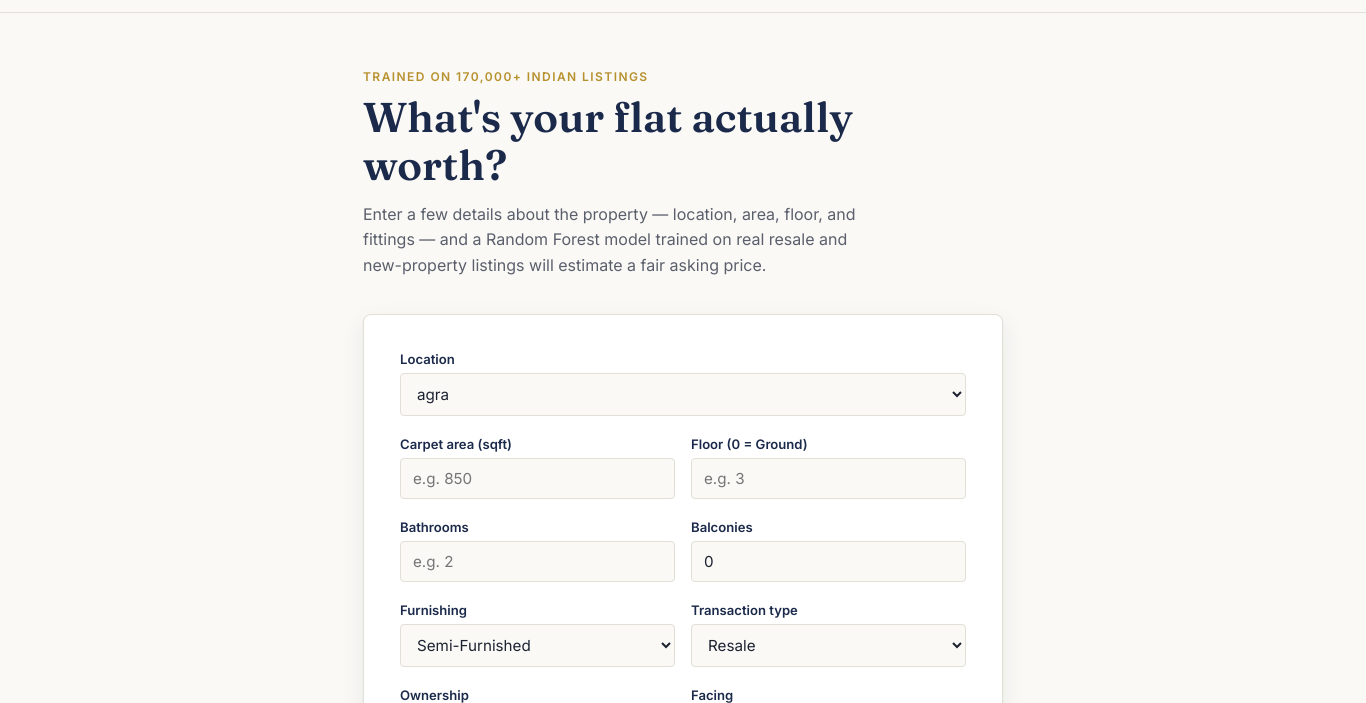
Scenario: End-to-end user flow: fill form -> submit -> see prediction › lets a user fill in property details, submit, and see a real predicted price
Check: the heading "What's your flat actually worth?" is shown, box [363,91,853,191]
Note: Fill in the required numeric fields (selects already have sensible defaults)
Type "850" into the number field labelled "Carpet area (sqft)" at (538, 479), box [400,458,675,499]
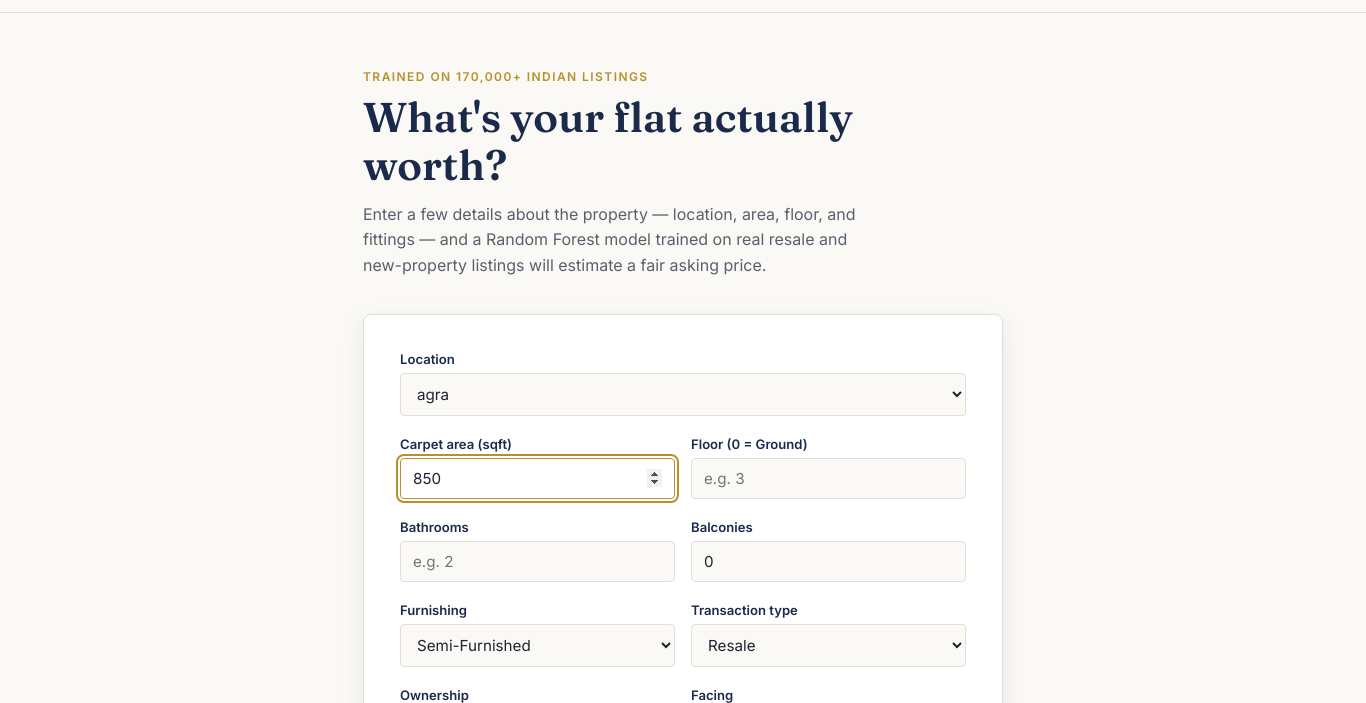
Type "3" into the number field labelled "Floor (0 = Ground)" at (828, 479), box [691,458,966,499]
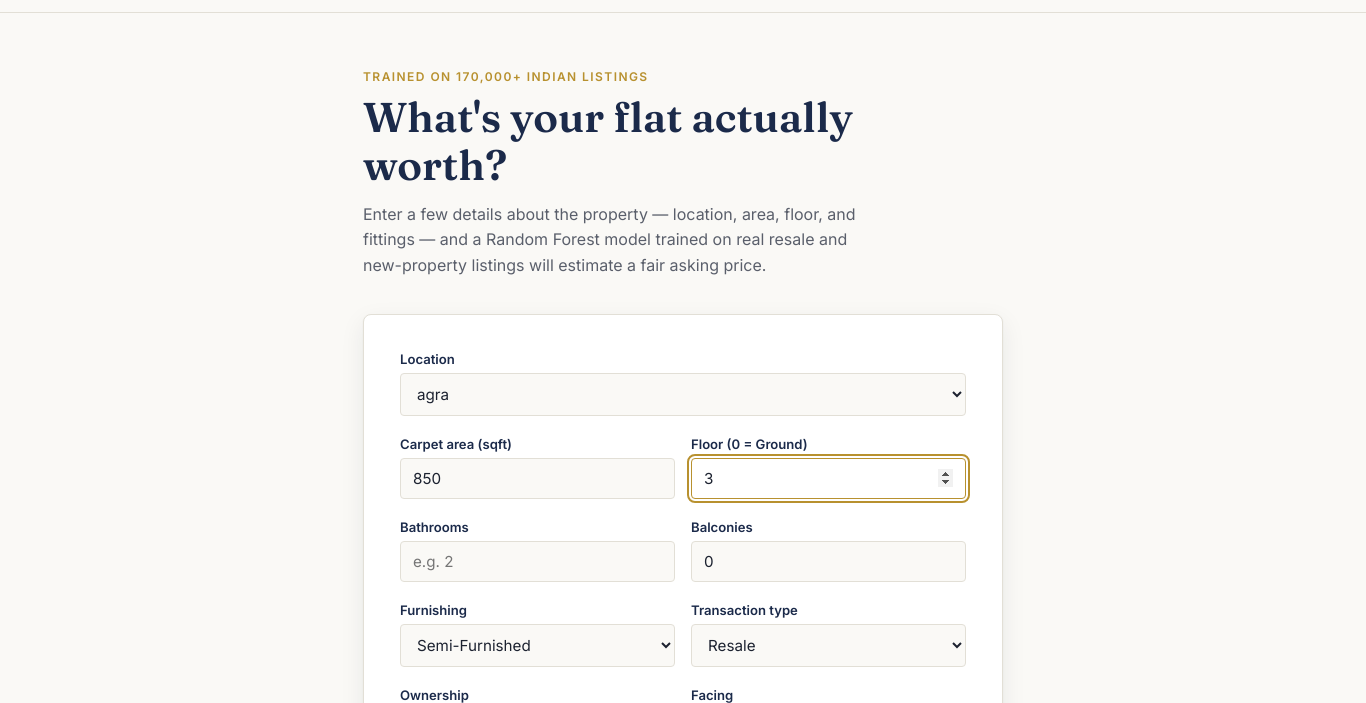
Type "2" into the number field labelled "Bathrooms" at (538, 562), box [400,541,675,582]
(page scrolled)
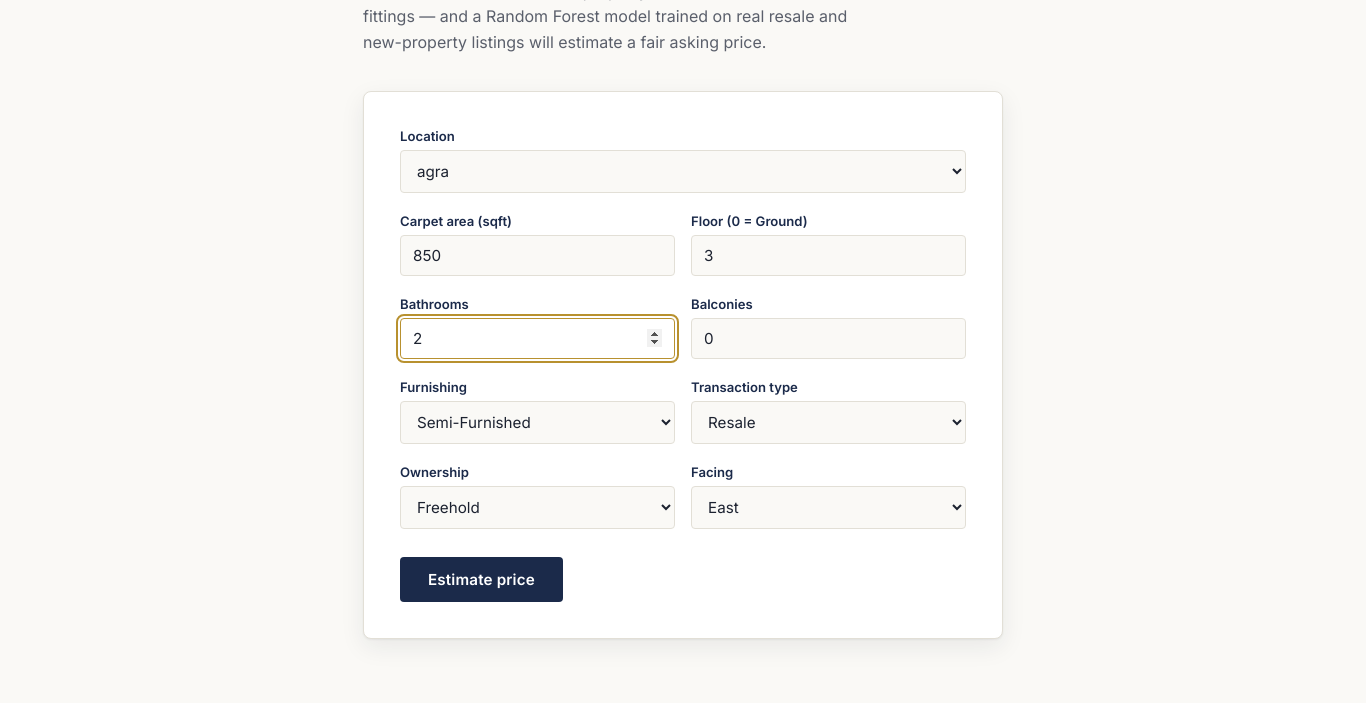
Note: Submit the form
Click the button "Estimate price" at (481, 580), box [400,557,563,602]
(page scrolled)
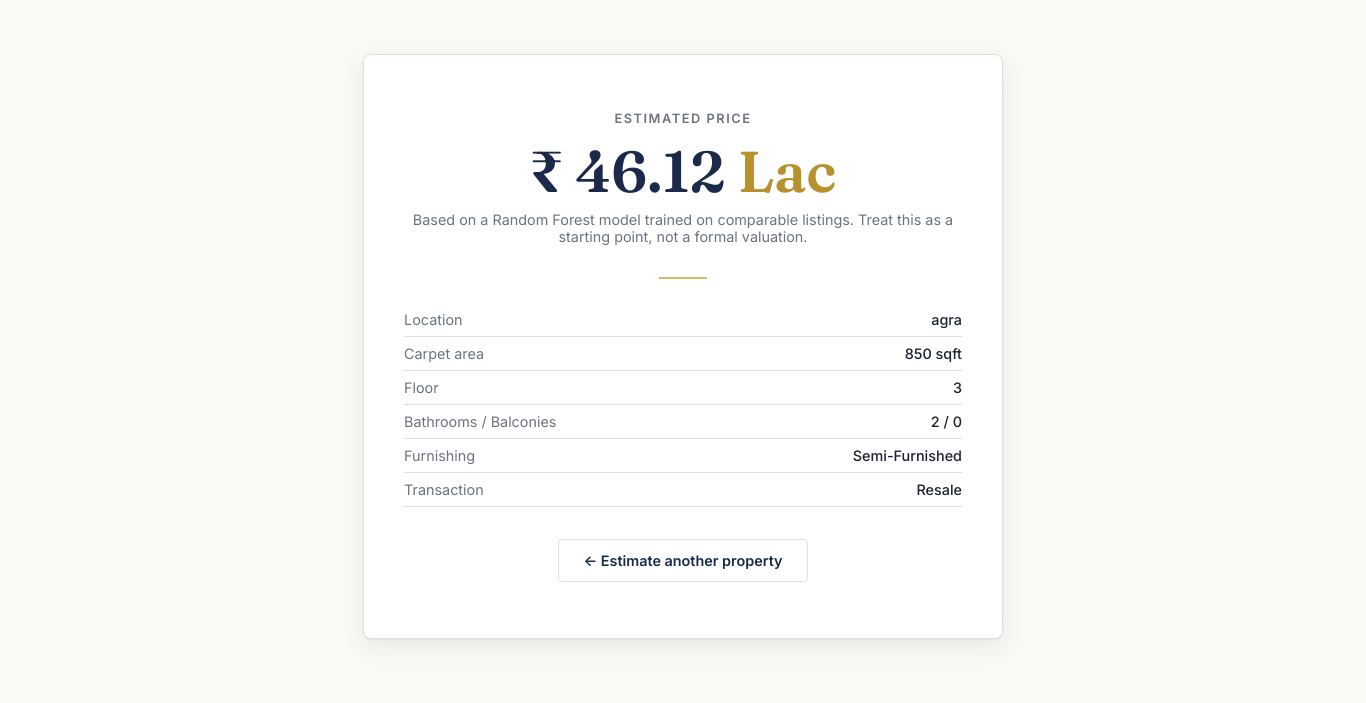
Check: the text "Estimated price" is shown, box [614,111,752,126]
Check: the text "₹ 46.12 Lac" is shown, box [530,136,836,207]
Check: the text "Lac" is shown, box [738,136,836,207]
